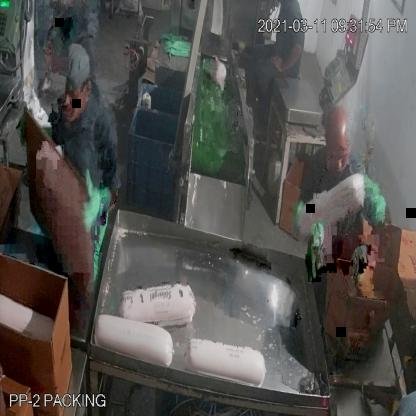no_glove: (268, 36, 309, 80)
